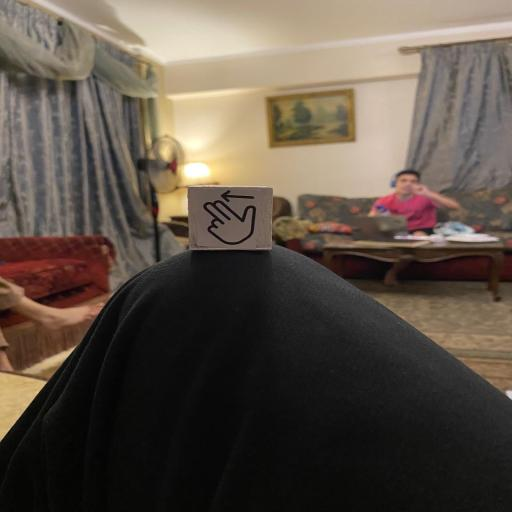LeftSwipe: (186, 184, 274, 251)
